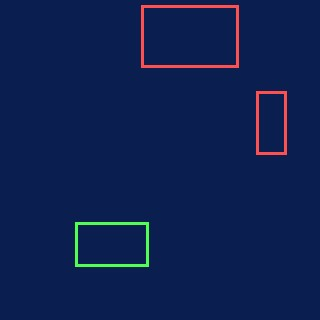bird: (141, 5, 238, 67), (75, 222, 148, 266), (256, 91, 286, 154)
